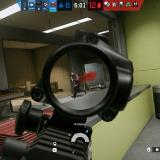Character: (70, 71, 87, 98)
Head: (71, 71, 75, 75)
